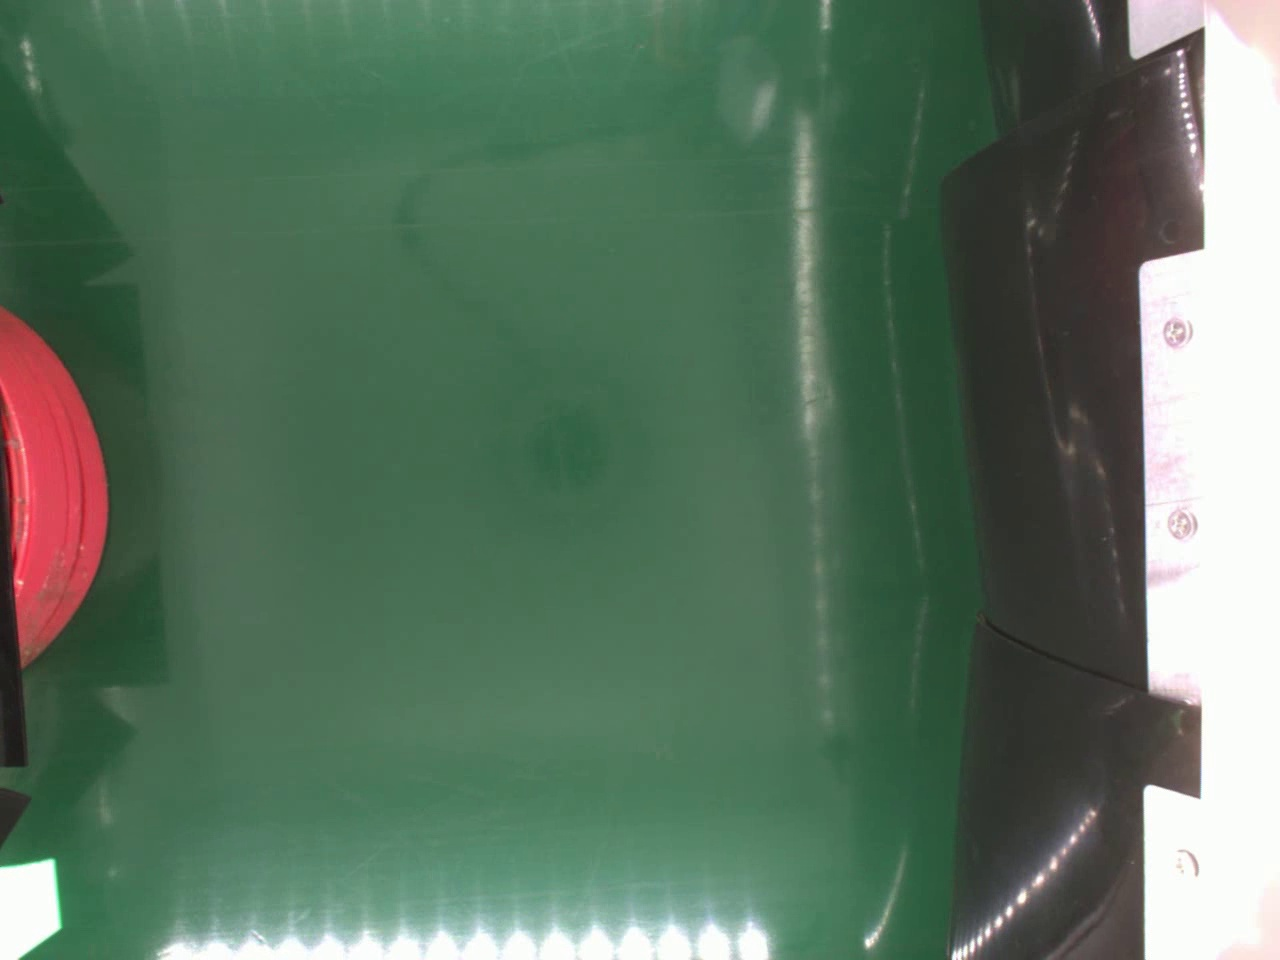red: (0, 305, 106, 677)
